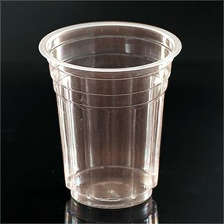glass: (34, 16, 186, 218)
